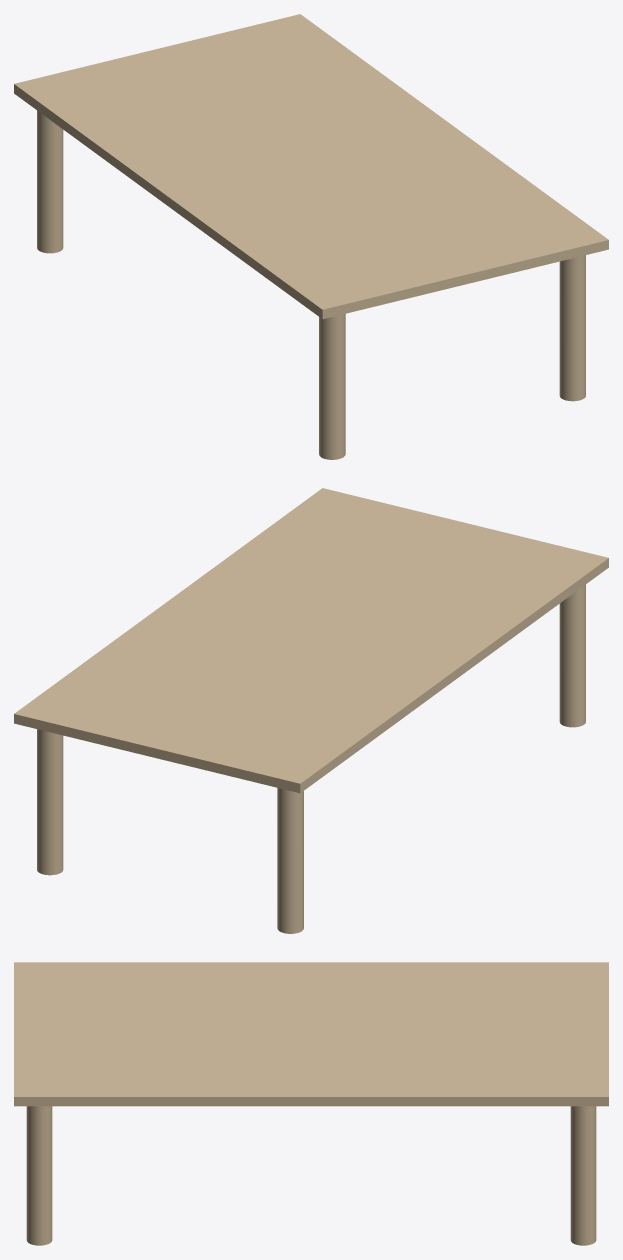
Rendered from newport-38750-g2-proxy.glb.
The picture shows the model from 3 angles, top to bottom: view 1: azimuth 30°, elevation 25°; view 2: azimuth 150°, elevation 25°; view 3: azimuth 270°, elevation 25°; orthographic projection. The views are drawn at different scales.
Visible parts, largest first — view 1: proxy_body, leg (×3); view 2: proxy_body, leg (×3); view 3: proxy_body, leg (×2).
Part boxes in pixels (x1,y1,x2,y2): proxy_body: (14, 14, 608, 319); leg (×3): (37, 110, 585, 459); proxy_body: (14, 488, 608, 793); leg (×3): (37, 584, 585, 933); proxy_body: (14, 962, 608, 1106); leg (×2): (26, 1106, 596, 1245).
Size of the model in its own units: 0.75 by 0.4 by 1.4.
